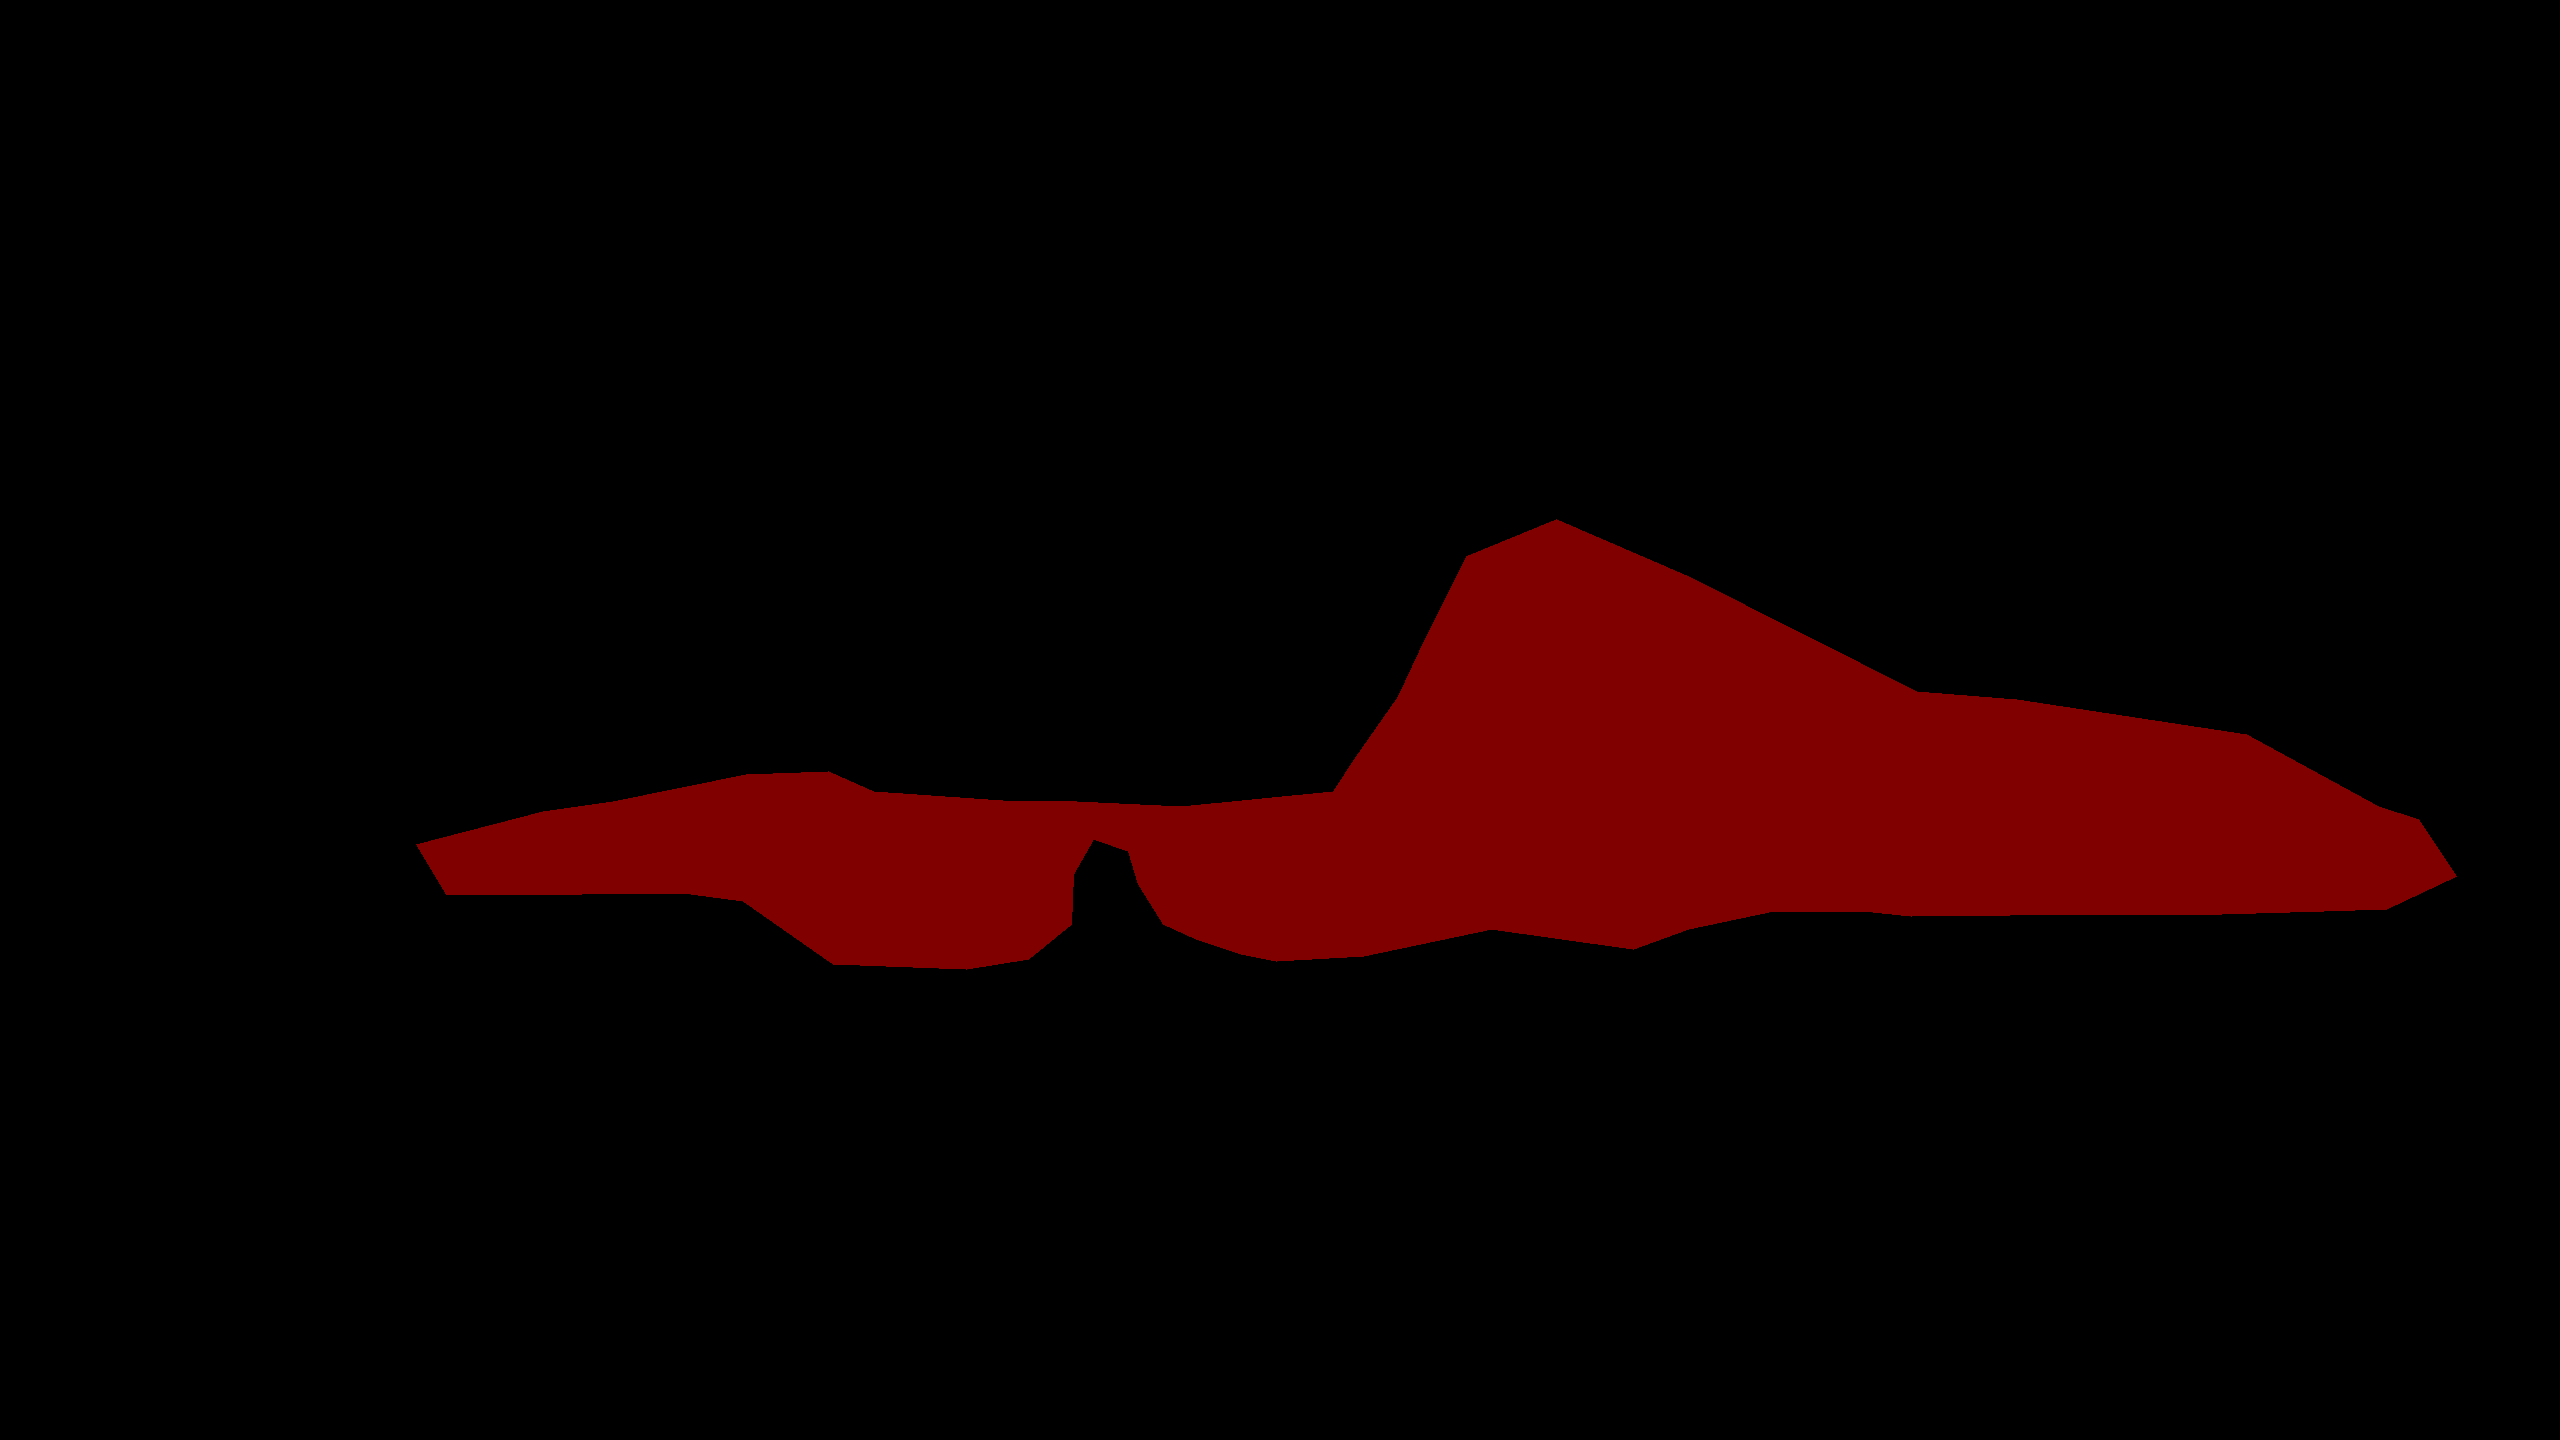fire: (417, 519, 2456, 969)
